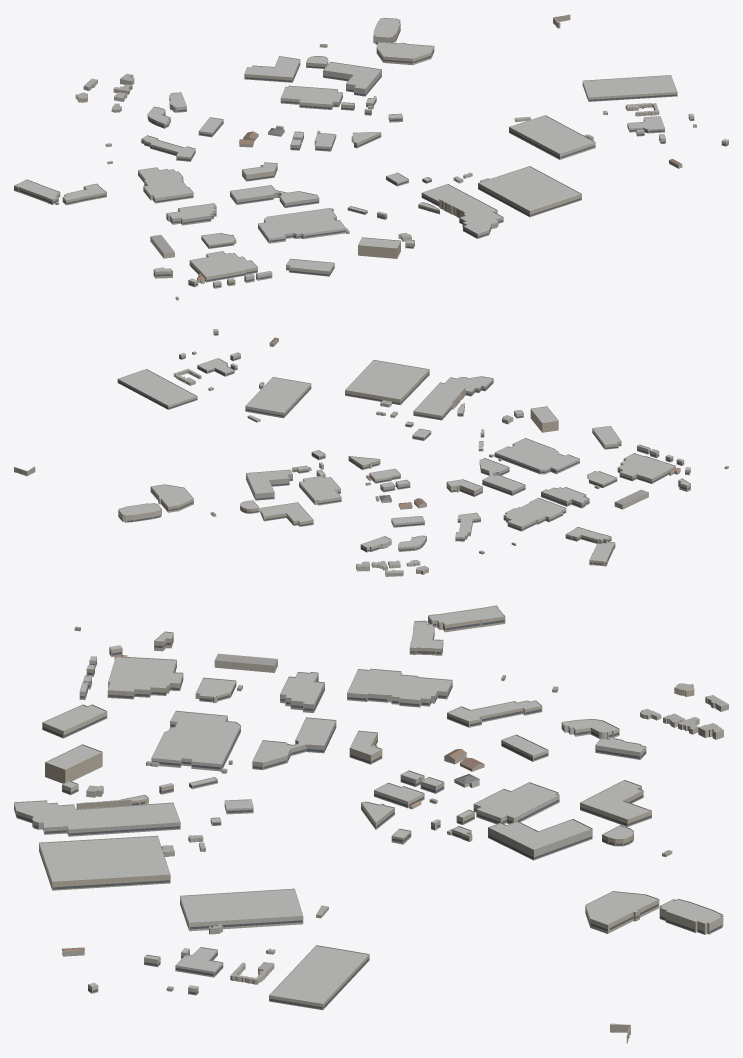
File: buildings_r3_c6.glb
3 renders of one model, top to bottom at view 1: azimuth 30°, elevation 25°; view 2: azimuth 150°, elevation 25°; view 3: azimuth 270°, elevation 25°, orthographic. The views are drawn at different scales.
Parts seen in each view (by area): view 1: buildings_r3_c6; view 2: buildings_r3_c6; view 3: buildings_r3_c6.
Part boxes in pixels (<box>): buildings_r3_c6: <box>14,14,728,300</box>; buildings_r3_c6: <box>14,329,728,576</box>; buildings_r3_c6: <box>14,605,728,1043</box>.
Bounding box in the file's own units: 1163 × 52.79 × 843.
